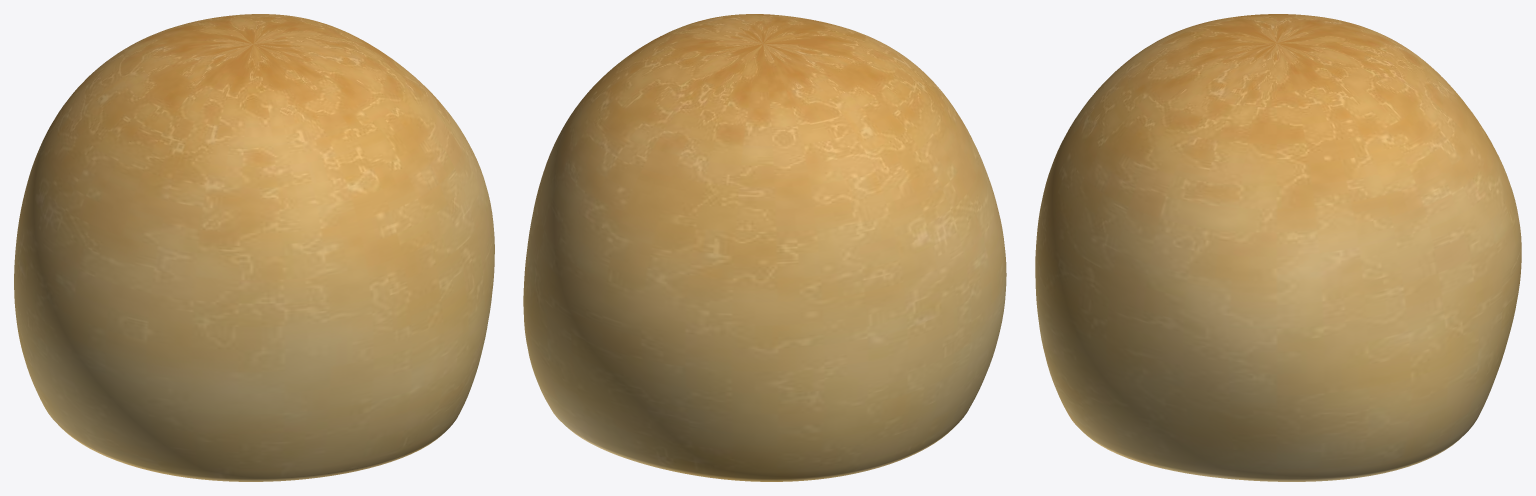
File: pao-de-queijo.glb
3 views of the same model, side by side, from view 1: azimuth 30°, elevation 25°; view 2: azimuth 150°, elevation 25°; view 3: azimuth 270°, elevation 25° (orthographic).
Visible parts, largest first — view 1: pao-de-queijo; view 2: pao-de-queijo; view 3: pao-de-queijo.
Part boxes in pixels (x1,y1,x2,y2): pao-de-queijo: (14,14,494,481); pao-de-queijo: (523,14,1006,481); pao-de-queijo: (1035,14,1521,481).
Size of the model in its own units: 0.05 by 0.04 by 0.05.
1 material, 1 textured.
